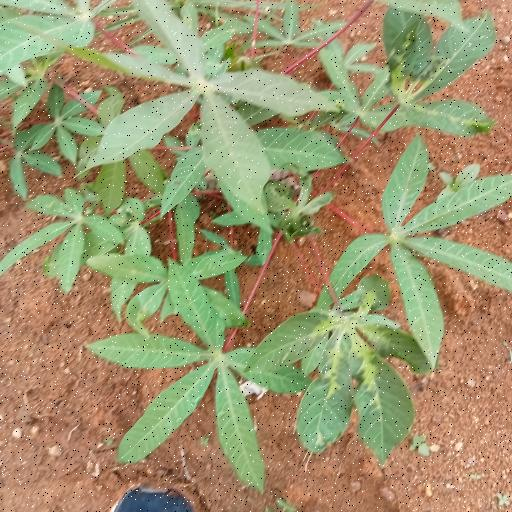Cassava_Mosaic: (268, 274, 428, 466), (383, 0, 500, 138)
